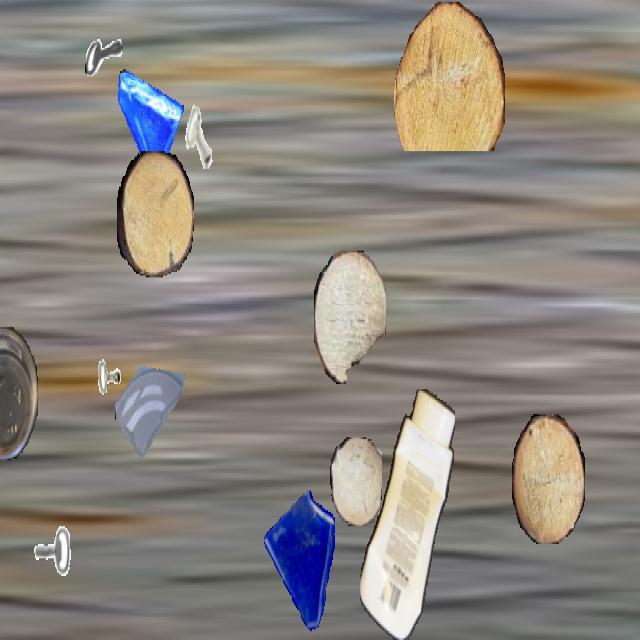glass: (260, 489, 344, 638), (115, 336, 187, 464), (114, 64, 184, 188)
metal: (174, 92, 226, 185), (23, 522, 73, 612), (82, 355, 130, 441), (85, 21, 123, 89)
plastic: (360, 390, 454, 638), (0, 327, 38, 459)
wood: (394, 2, 504, 151), (117, 151, 193, 276), (314, 251, 386, 382), (512, 414, 584, 542), (330, 438, 382, 526)
